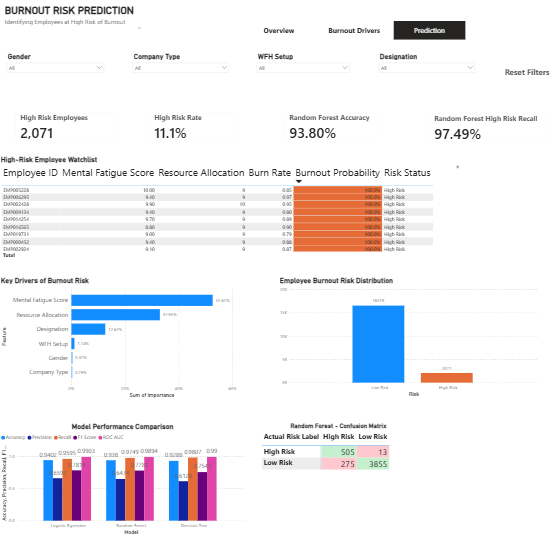

The page's visual inventory and layout, read from the dashboard file:
{"tool":"powerbi","page":{"name":"Prediction","canvas":[1500,1460],"ordinal":2},"visuals":[{"type":"textbox","title":"BURNOUT RISK PREDICTION","box":[11.9,23.7,376.9,71.2],"z":0},{"type":"pageNavigator","box":[657.3,71.1,600,50],"z":1000},{"type":"cardVisual","fields":{"Data":["employee_burnout_analysis_cleaned.High Risk Recall"]},"box":[1142.1,301.7,355.6,110.4],"z":2000},{"type":"cardVisual","fields":{"Data":["employee_burnout_analysis_cleaned.Model Accuracy"]},"box":[750.8,302.7,285.4,105.7],"z":3000},{"type":"cardVisual","fields":{"Data":["employee_burnout_analysis_cleaned.High Risk Rate"]},"box":[388.7,302.7,276,106.8],"z":4000},{"type":"cardVisual","fields":{"Data":["employee_burnout_analysis_cleaned.High Risk Employees"]},"box":[26.7,302.7,299.7,106.8],"z":5000},{"type":"tableEx","title":"High-Risk Employee Watchlist","fields":{"Values":["high_risk_watchlist.employee_id","high_risk_watchlist.mental_fatigue_score","high_risk_watchlist.resource_allocation","high_risk_watchlist.burn_rate","high_risk_watchlist.burnout_probability","high_risk_watchlist.Risk Status"]},"box":[0,430.3,1244.5,285.4],"z":6000},{"type":"clusteredBarChart","title":"Key Drivers of Burnout Risk","fields":{"Category":["Feature Importance.Feature"],"Y":["Sum(Feature Importance.Importance)"]},"box":[0,756.7,645.9,332.9],"z":7000},{"type":"clusteredColumnChart","title":"Employee Burnout Risk Distribution","fields":{"Y":["CountNonNull(employee_burnout_analysis_cleaned.employee_id)"],"Category":["employee_burnout_analysis_cleaned.Risk"]},"box":[750.8,756.7,702.8,330.3],"z":8000},{"type":"clusteredColumnChart","title":"Model Performance Comparison","fields":{"Category":["Model Performance.Model"],"Y":["Sum(Model Performance.Accuracy)","Sum(Model Performance.Precision)","Sum(Model Performance.Recall)","Sum(Model Performance.F1 Score)","Sum(Model Performance.ROC AUC)"]},"box":[0,1151.4,665.9,309.1],"z":9000},{"type":"pivotTable","title":"Random Forest - Confusion Matrix","fields":{"Values":["CountNonNull(random_forest_predictions.employee_id)"],"Rows":["random_forest_predictions.Actual Risk Label"],"Columns":["random_forest_predictions.Predicted Risk Label"]},"box":[703.3,1151.4,422.8,153.3],"z":10000},{"type":"slicer","fields":{"Values":["employee_burnout_analysis_cleaned.designation"]},"box":[1011.9,148.4,278.9,115.7],"z":11000},{"type":"slicer","fields":{"Values":["employee_burnout_analysis_cleaned.wfh_setup_available"]},"box":[685.3,148,270.3,116.7],"z":12000},{"type":"slicer","fields":{"Values":["employee_burnout_analysis_cleaned.company_type"]},"box":[350.1,148,278.9,116.7],"z":13000},{"type":"slicer","fields":{"Values":["employee_burnout_analysis_cleaned.gender"]},"box":[11.9,148.4,281.9,115.7],"z":14000},{"type":"actionButton","box":[1347.2,148.4,151.3,115.7],"z":15000}]}

Visuals, with their boxes in screenshot pixels (x1, y1, x2, y2), scaled from the page's 1500x1460 canvas onto the 555x536 screenshot:
"BURNOUT RISK PREDICTION" textbox: <region>4, 9, 144, 35</region>
pageNavigator: <region>243, 26, 465, 44</region>
cardVisual - employee_burnout_analysis_cleaned.High Risk Recall: <region>423, 111, 554, 151</region>
cardVisual - employee_burnout_analysis_cleaned.Model Accuracy: <region>278, 111, 383, 150</region>
cardVisual - employee_burnout_analysis_cleaned.High Risk Rate: <region>144, 111, 246, 150</region>
cardVisual - employee_burnout_analysis_cleaned.High Risk Employees: <region>10, 111, 121, 150</region>
"High-Risk Employee Watchlist" tableEx: <region>0, 158, 460, 263</region>
"Key Drivers of Burnout Risk" clusteredBarChart: <region>0, 278, 239, 400</region>
"Employee Burnout Risk Distribution" clusteredColumnChart: <region>278, 278, 538, 399</region>
"Model Performance Comparison" clusteredColumnChart: <region>0, 423, 246, 535</region>
"Random Forest - Confusion Matrix" pivotTable: <region>260, 423, 417, 479</region>
slicer - employee_burnout_analysis_cleaned.designation: <region>374, 54, 478, 97</region>
slicer - employee_burnout_analysis_cleaned.wfh_setup_available: <region>254, 54, 354, 97</region>
slicer - employee_burnout_analysis_cleaned.company_type: <region>130, 54, 233, 97</region>
slicer - employee_burnout_analysis_cleaned.gender: <region>4, 54, 109, 97</region>
actionButton: <region>498, 54, 554, 97</region>
